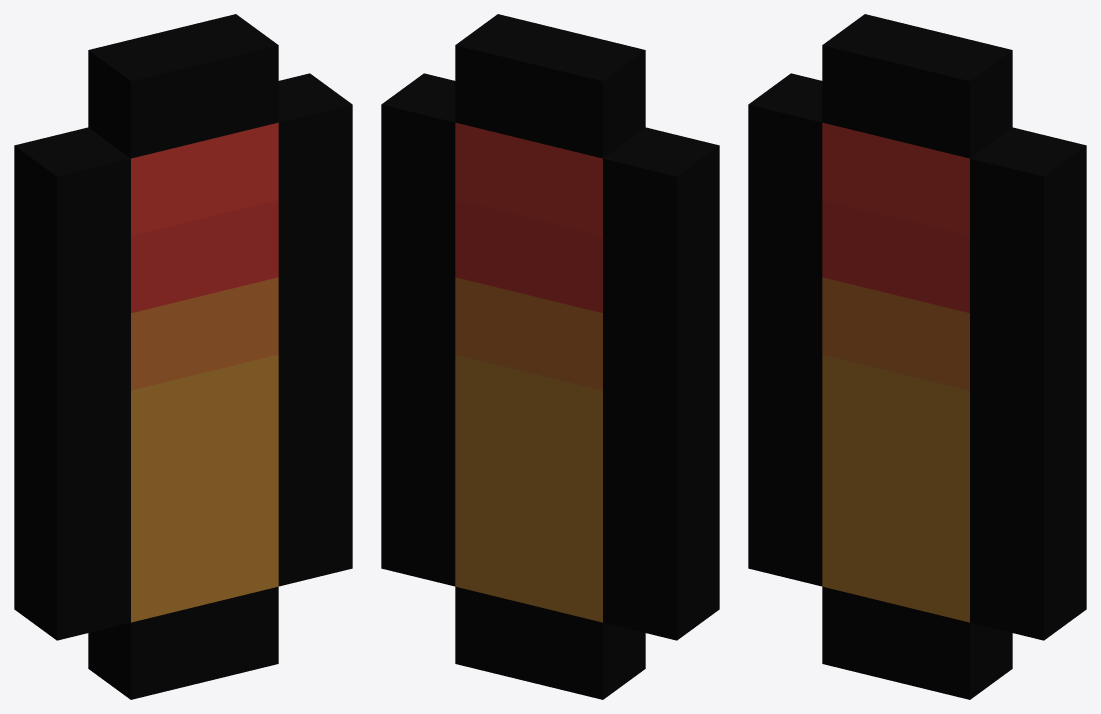
File: Red Torch.glb
3 views of the same model, side by side, from view 1: azimuth 30°, elevation 25°; view 2: azimuth 150°, elevation 25°; view 3: azimuth 330°, elevation 25° (orthographic).
Parts seen in each view (by area): view 1: generated(Clone); view 2: generated(Clone); view 3: generated(Clone).
Boxes of the visible parts, box(x1,y1,x2,y2) form: generated(Clone): box(14, 14, 352, 699); generated(Clone): box(381, 14, 719, 699); generated(Clone): box(748, 14, 1086, 699).
Size of the model in its own units: 4 by 8 by 1.
Materials: 1 (1 with a texture image).
